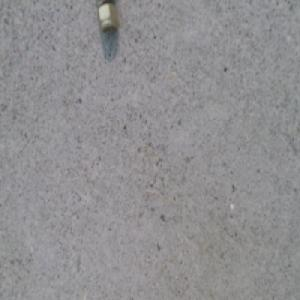BoltNutSet: (100, 0, 120, 38)
